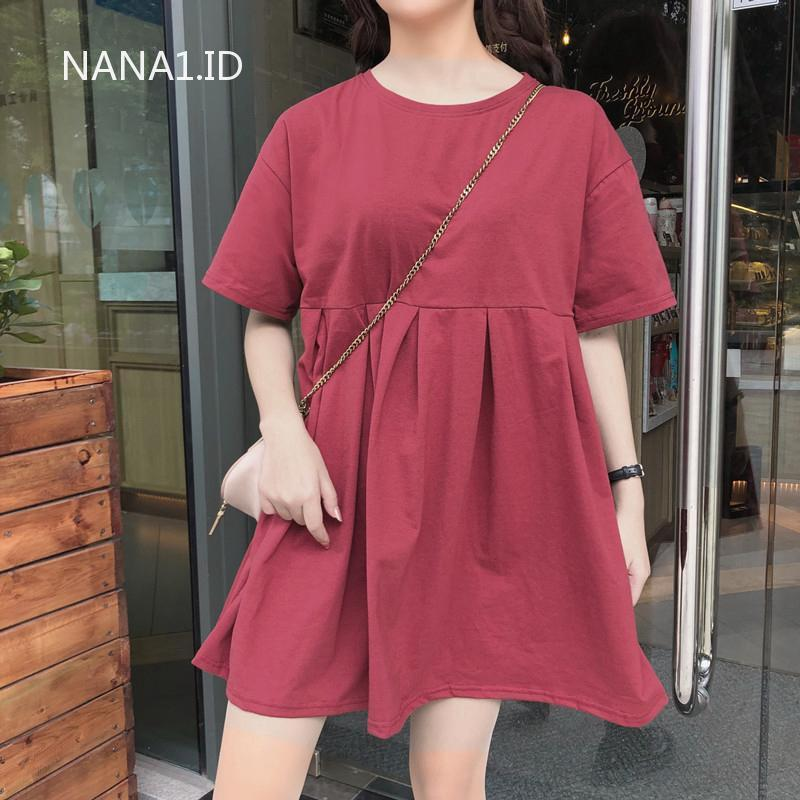skirt: (173, 64, 680, 776)
